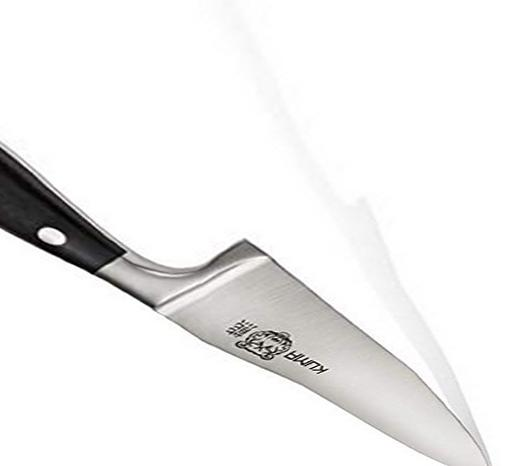knife: (1, 139, 487, 466)
